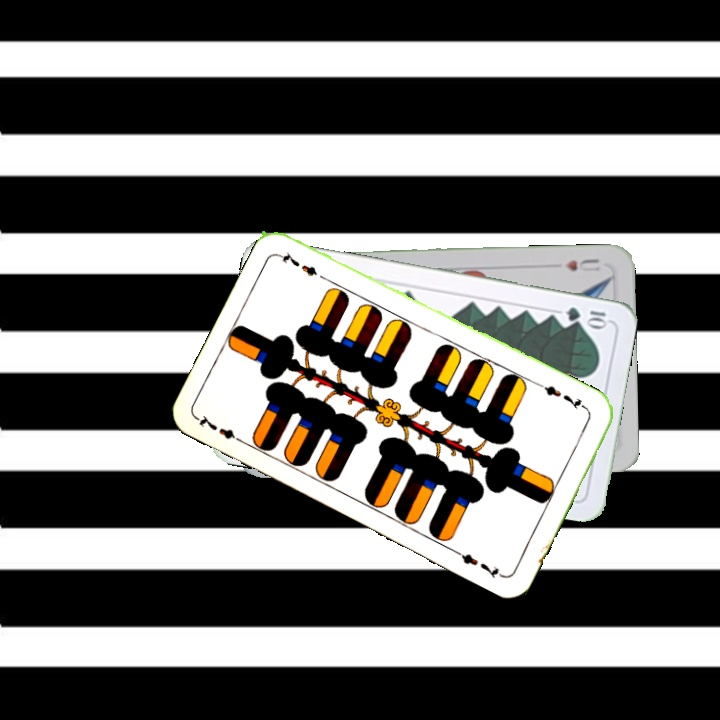E7: (193, 411, 248, 447), (536, 380, 591, 414)
G10: (561, 303, 611, 329)
HU: (560, 254, 603, 274)
